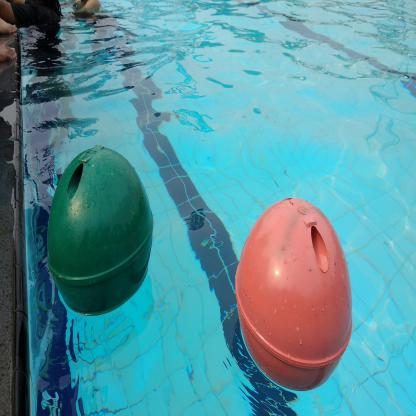green_buoy: (46, 137, 156, 324)
red_buoy: (229, 186, 362, 404)
